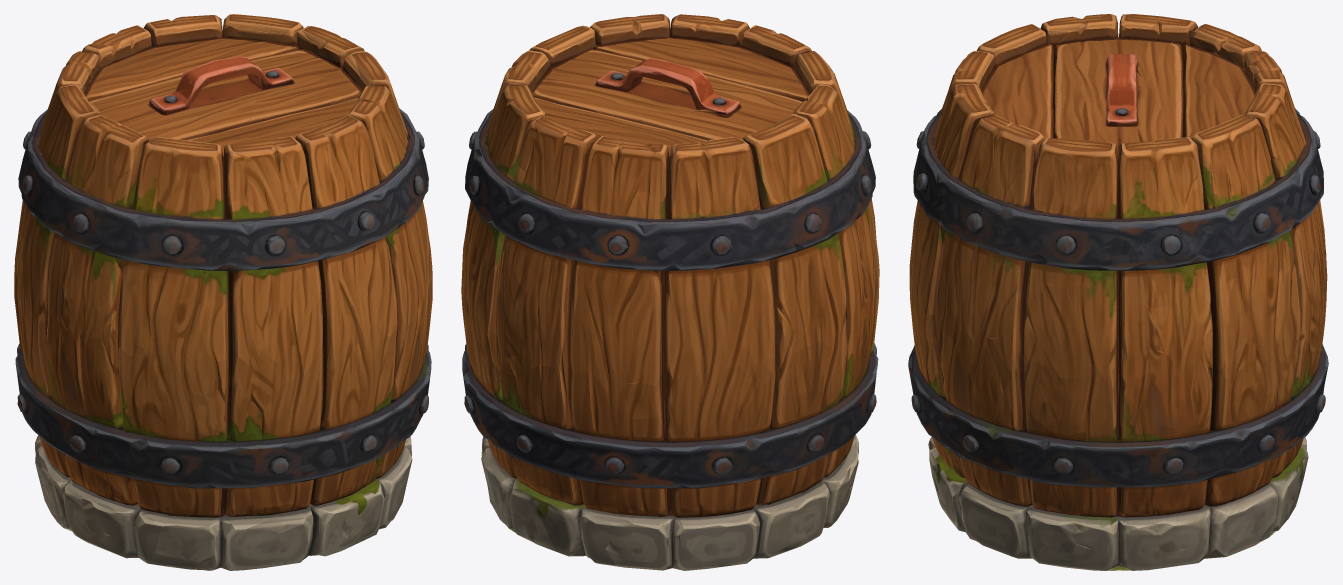
Rendered from barrel_v2.glb.
3 views of the same model, side by side, from view 1: azimuth 30°, elevation 25°; view 2: azimuth 150°, elevation 25°; view 3: azimuth 270°, elevation 25° (orthographic).
Size of the model in its own units: 1.67 by 1.9 by 1.68.
1 material, 1 textured.
